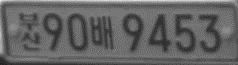0: (67, 12, 89, 51)
3: (198, 13, 222, 53)
4: (147, 13, 171, 51)
5: (174, 13, 197, 52)
9: (121, 12, 144, 51), (42, 12, 63, 51)
배: (89, 14, 114, 50)
부산_V: (19, 11, 42, 51)
